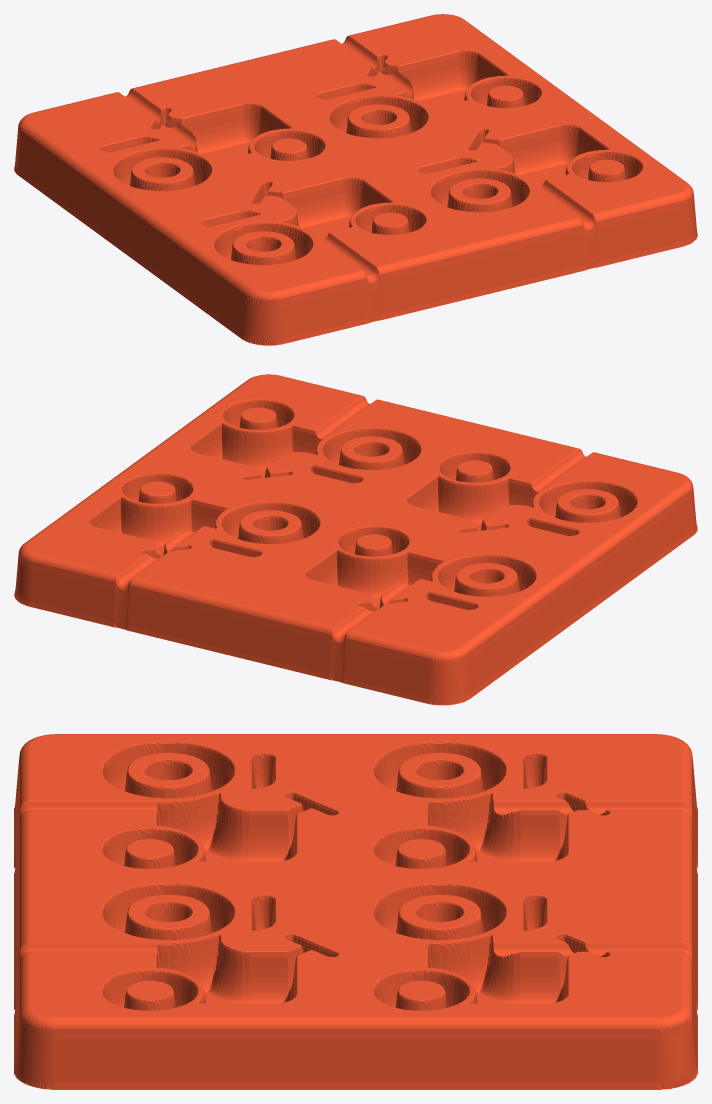
File: mold.glb
3 views of the same model, one above another, from view 1: azimuth 30°, elevation 25°; view 2: azimuth 150°, elevation 25°; view 3: azimuth 270°, elevation 25° (orthographic). The views are drawn at different scales.
Parts seen in each view (by area): view 1: geometry_0; view 2: geometry_0; view 3: geometry_0.
Boxes of the visible parts, x1,y1,x2,y2 form: geometry_0: (14,14,697,345); geometry_0: (14,374,697,705); geometry_0: (14,734,697,1089).
Size of the model in its own units: 0.1497 by 0.0155 by 0.1461.
